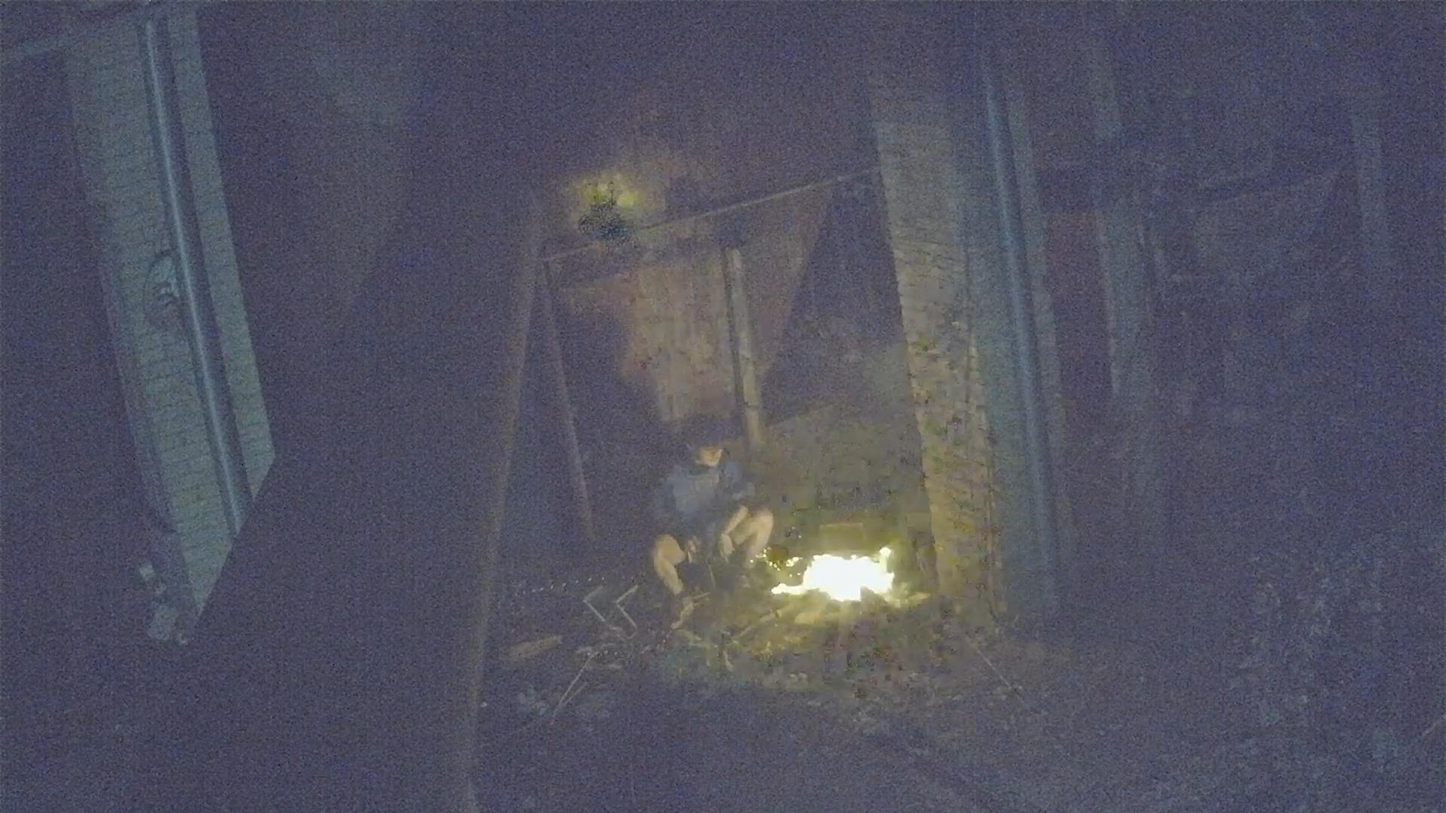fire: (773, 554, 894, 601)
